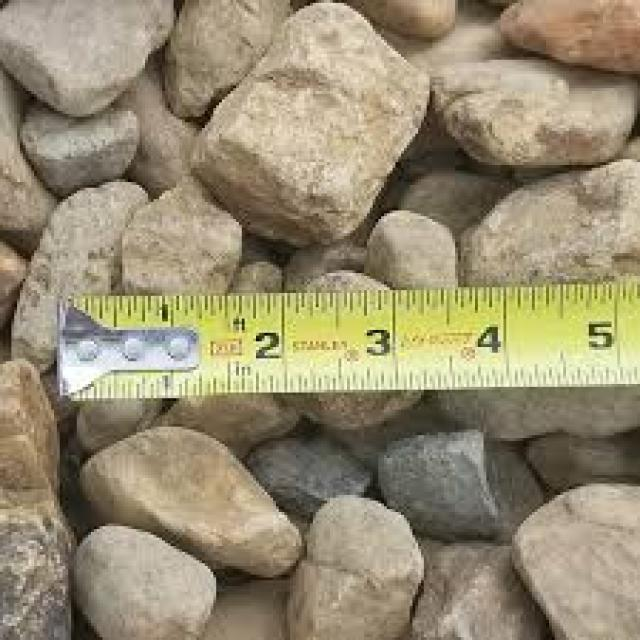scale: (57, 282, 640, 401)
